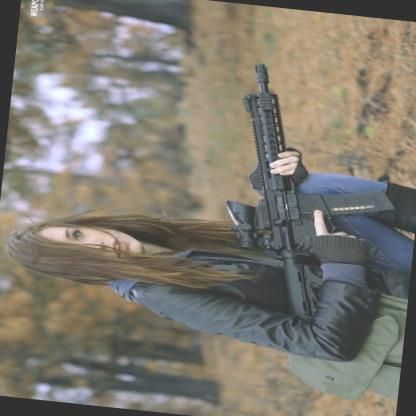rifle: (200, 54, 411, 328)
